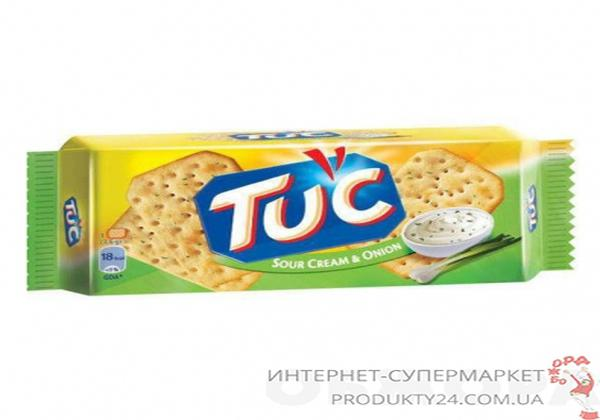crackers tuc: (66, 138, 534, 285)
